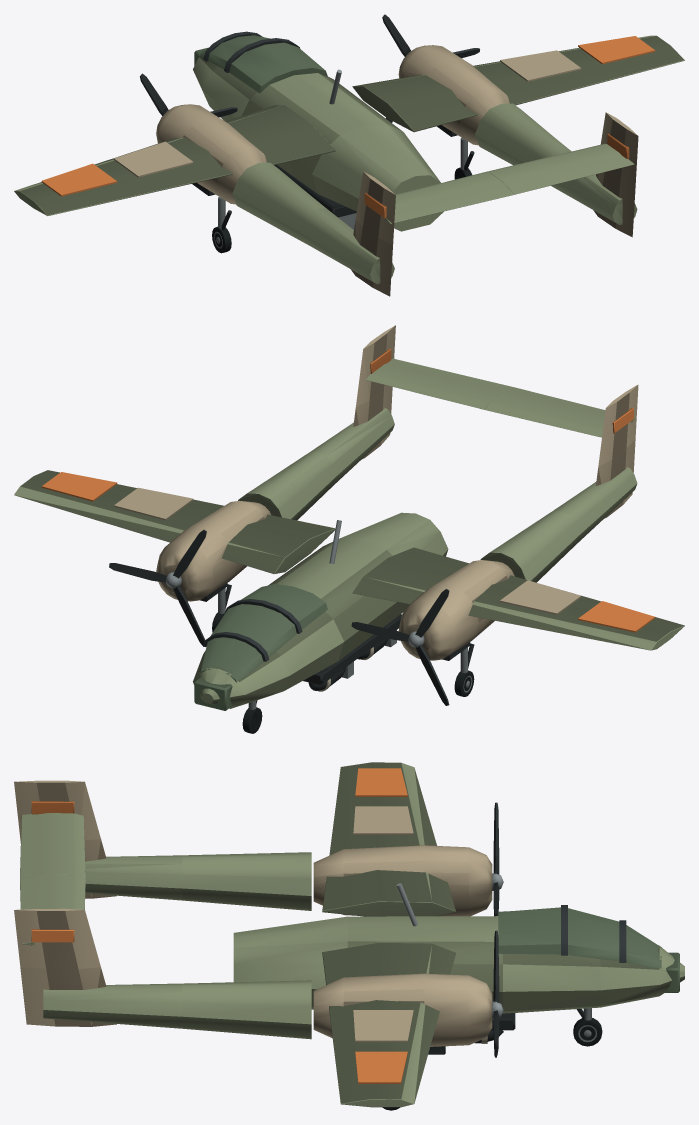
The model's file is BuzzardBomber.glb.
3 renders of one model, top to bottom at view 1: azimuth 30°, elevation 25°; view 2: azimuth 150°, elevation 25°; view 3: azimuth 270°, elevation 25°, orthographic. The views are drawn at different scales.
Visible parts, largest first — view 1: export_frontier_BuzzardBomber_Pod, export_frontier_BuzzardBomber_Fan_RotorRight_Spinner, export_frontier_BuzzardBomber_Fan_RotorLeft_Spinner; view 2: export_frontier_BuzzardBomber_Pod, export_frontier_BuzzardBomber_Fan_RotorLeft_Spinner, export_frontier_BuzzardBomber_Fan_RotorRight_Spinner; view 3: export_frontier_BuzzardBomber_Pod, export_frontier_BuzzardBomber_Fan_RotorRight_Spinner, export_frontier_BuzzardBomber_Fan_RotorLeft_Spinner.
Boxes of the visible parts, bbox=[...] form: export_frontier_BuzzardBomber_Pod: bbox=[14, 31, 684, 296]; export_frontier_BuzzardBomber_Fan_RotorRight_Spinner: bbox=[382, 14, 479, 122]; export_frontier_BuzzardBomber_Fan_RotorLeft_Spinner: bbox=[140, 73, 237, 117]; export_frontier_BuzzardBomber_Pod: bbox=[14, 325, 684, 733]; export_frontier_BuzzardBomber_Fan_RotorLeft_Spinner: bbox=[351, 589, 449, 705]; export_frontier_BuzzardBomber_Fan_RotorRight_Spinner: bbox=[109, 529, 206, 646]; export_frontier_BuzzardBomber_Pod: bbox=[14, 762, 684, 1110]; export_frontier_BuzzardBomber_Fan_RotorRight_Spinner: bbox=[492, 930, 503, 1057]; export_frontier_BuzzardBomber_Fan_RotorLeft_Spinner: bbox=[492, 802, 503, 916].
Bounding box in the file's own units: 8.2 × 2.26 × 6.9.
